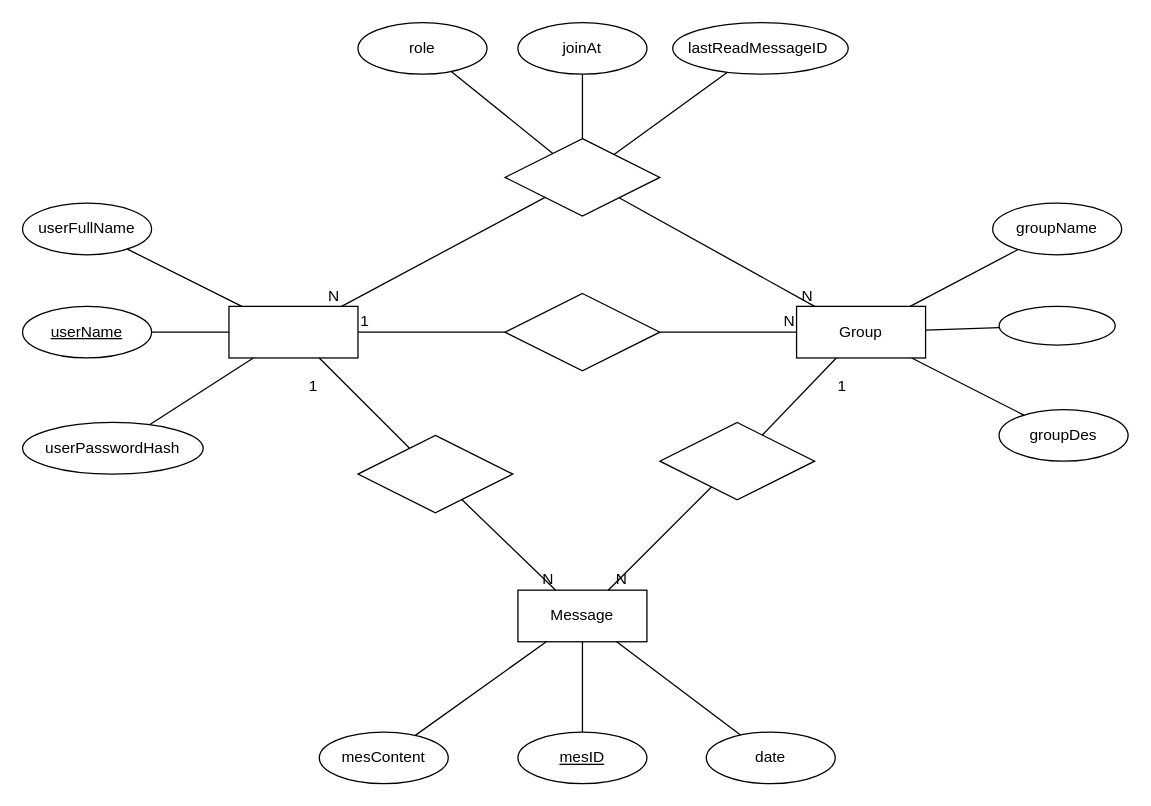
Image size: 1151x806. Some labels were removed from this diagram. Each missing label, with the centre of its shape:
Create: point 582,331
groupID: point 1056,325
Have: point 435,473
In: point 737,460
MemberOf: point 582,176
User: point 293,331
